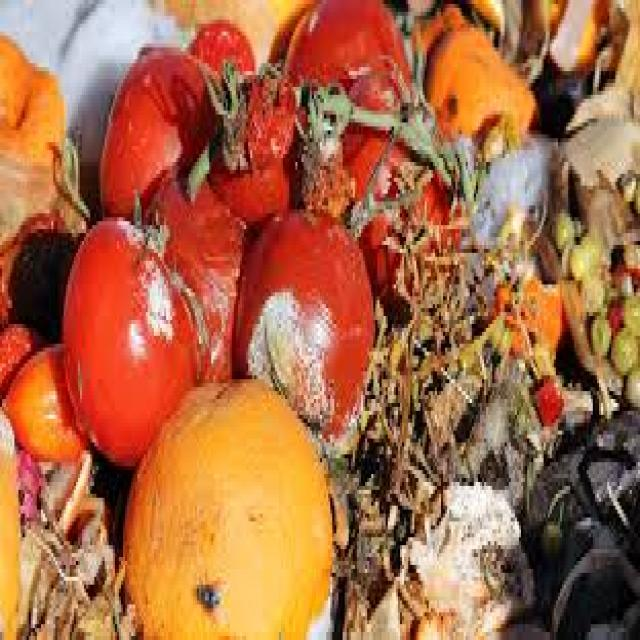food_waste: (103, 348, 349, 640), (225, 132, 398, 500), (56, 181, 214, 497), (57, 18, 237, 241)
